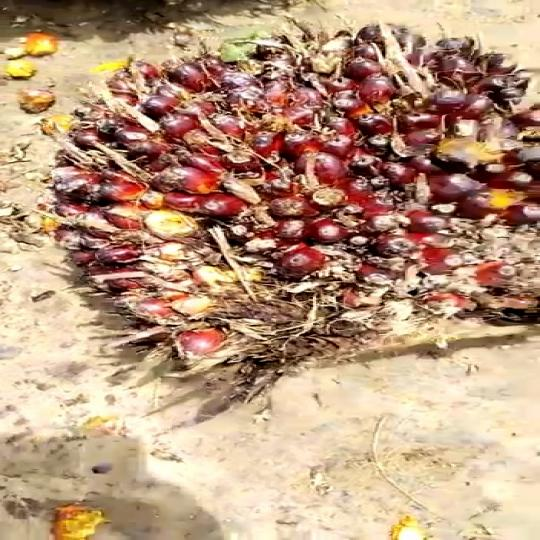masak: (41, 26, 540, 367)
